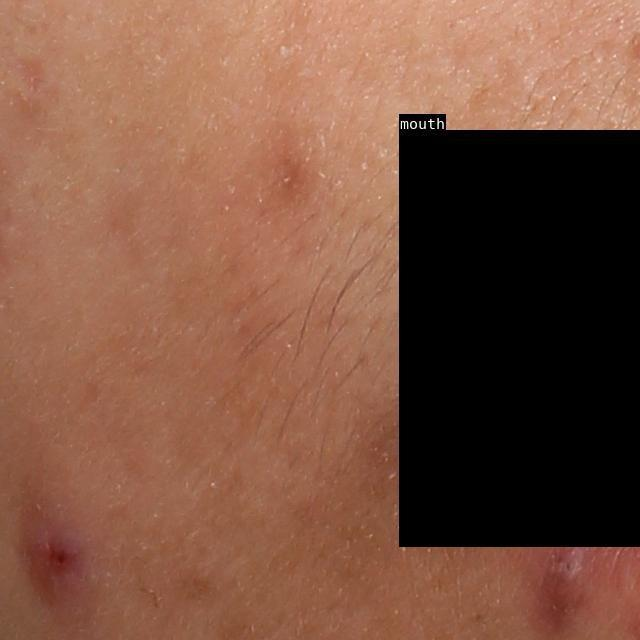atrophic_scar: (9, 57, 51, 97)
papule: (27, 523, 93, 591), (534, 553, 589, 623)
